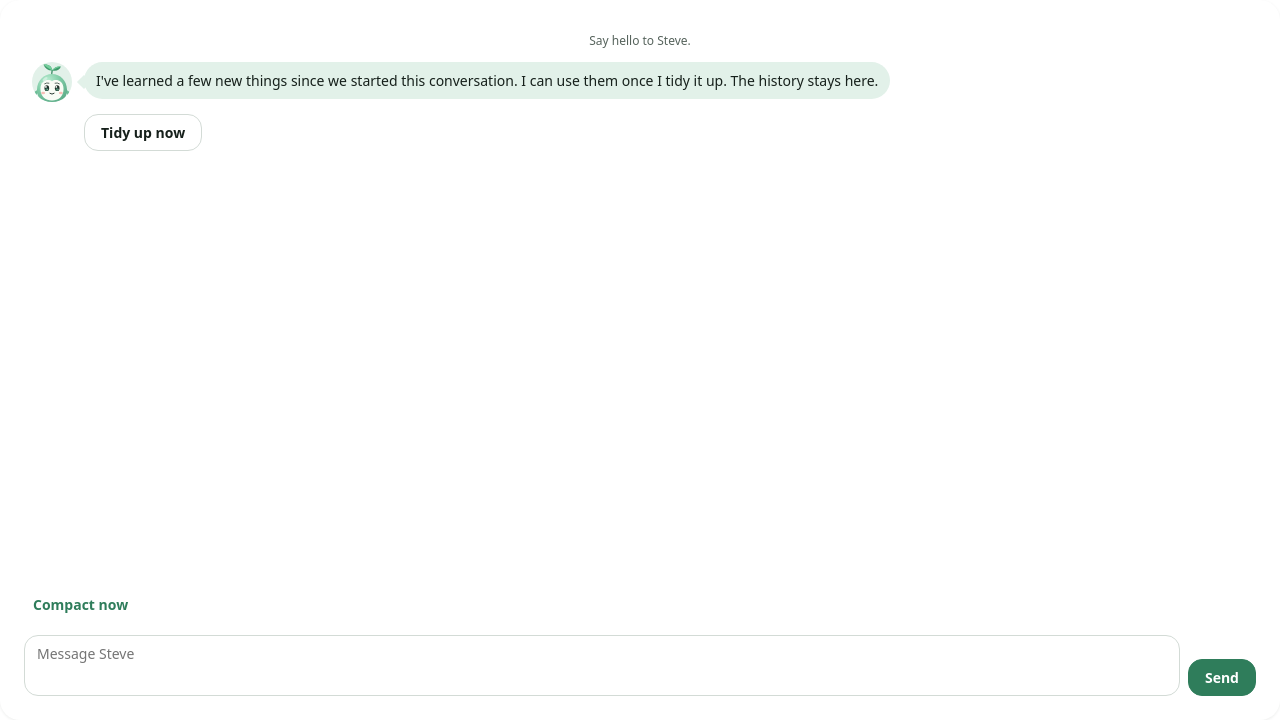
Test: Conversation compaction › offers to catch up, compacting, or carrying the turns over when there is nothing to compact
expect the text "learned a few new things" is shown: met, box [96,71,878,90]
Click the button "Tidy up now": [143, 132] box [84,114,202,151]
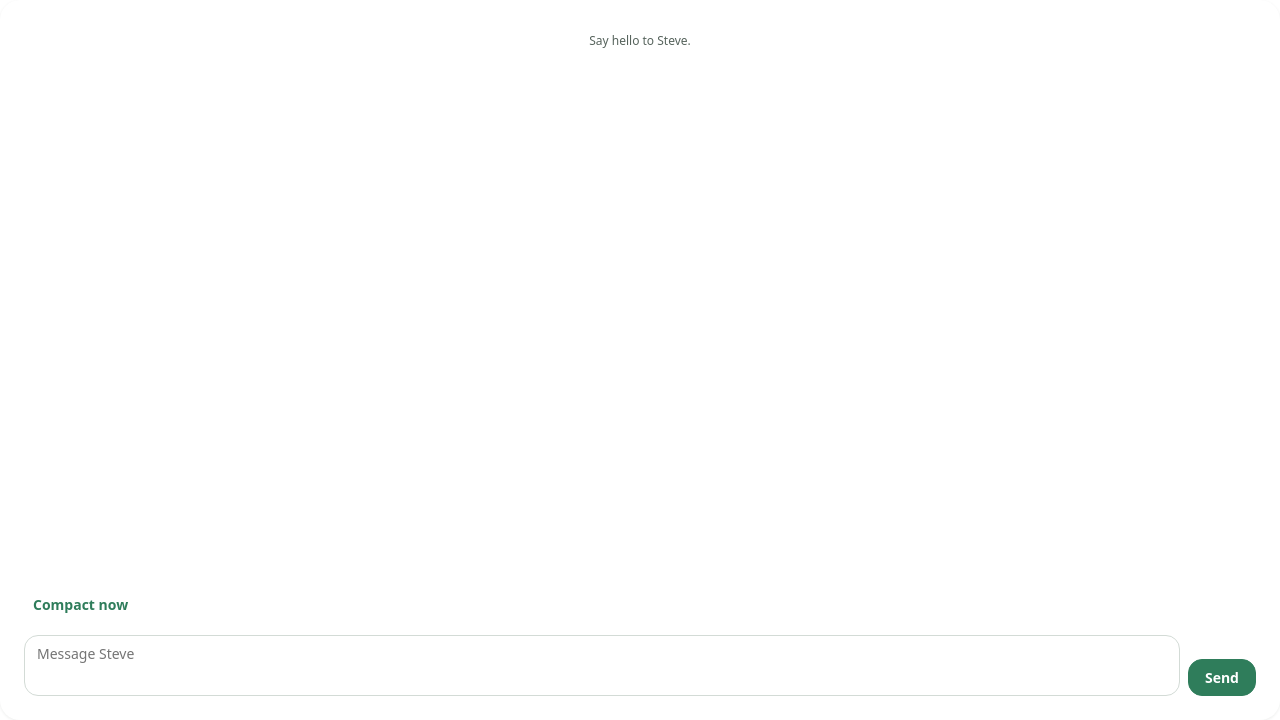
expect the text "learned a few new things" is gone: met
